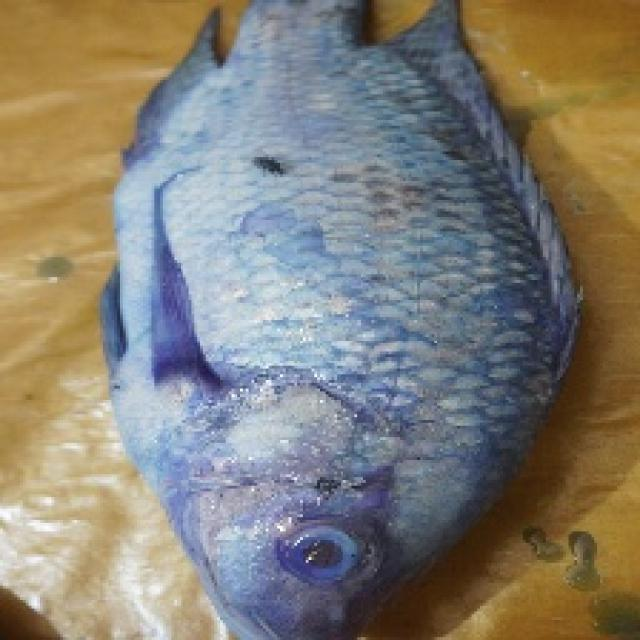Non-Fresh: (108, 20, 565, 640)
